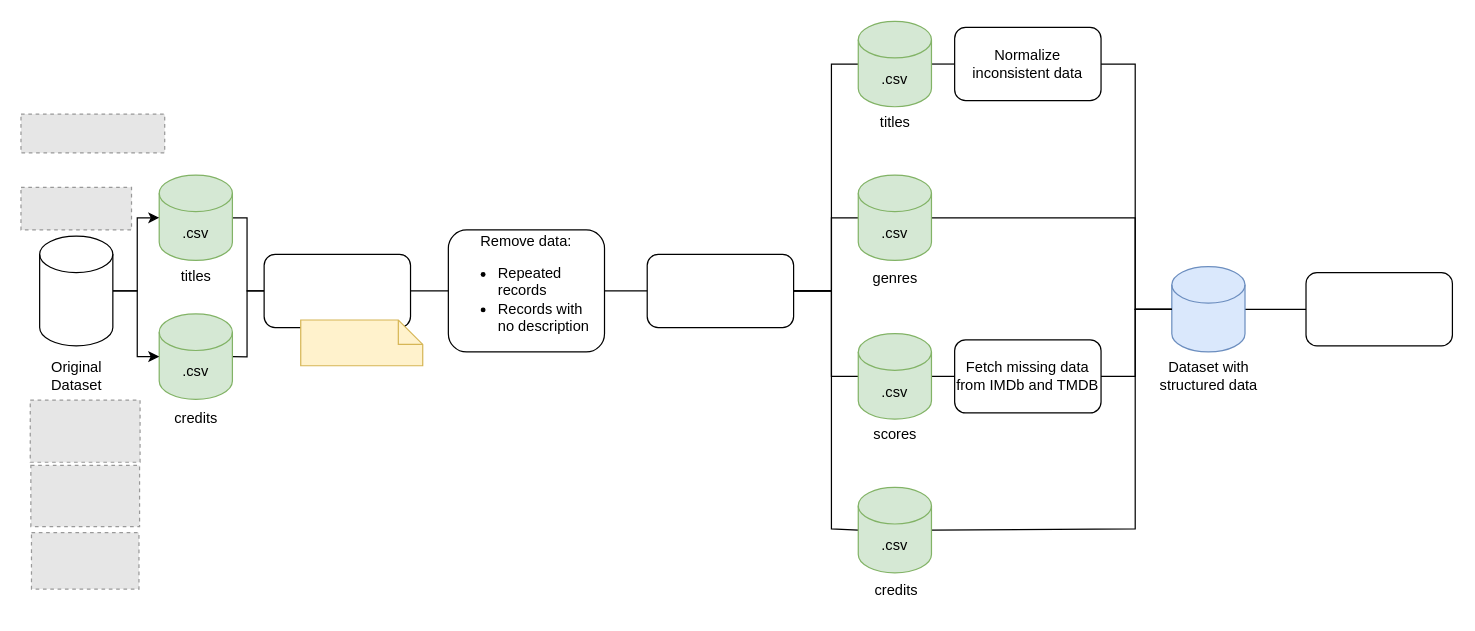
The diagram is 1475 pixels wide and 631 high, and some of its shapes have lost their labels. Grey dashed boxes stand in for pictures. Each missing label, with the box of its shape:
Data analysis: (263, 253, 411, 328)
Data exploration/ characterization: (1305, 271, 1452, 346)
Extract genres Extract scores: (646, 253, 794, 328)
OpenRefine: (300, 319, 423, 366)
